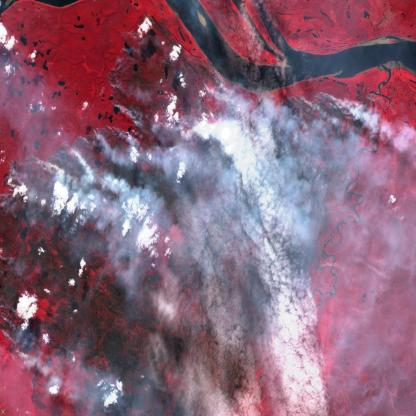fire: (0, 0, 355, 361)
